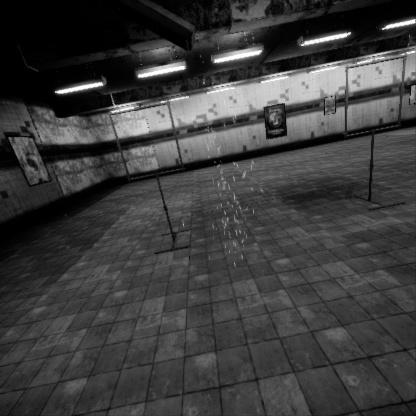gate: (108, 233, 190, 315), (345, 276, 413, 362)
